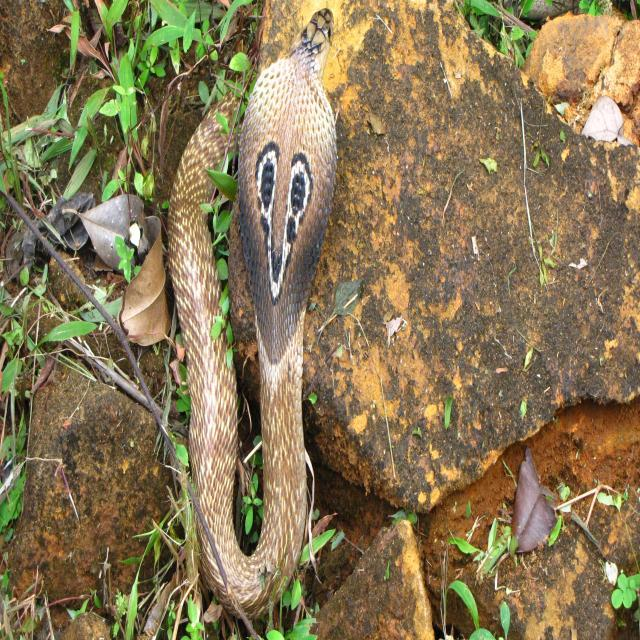Snake: (165, 6, 339, 628)
